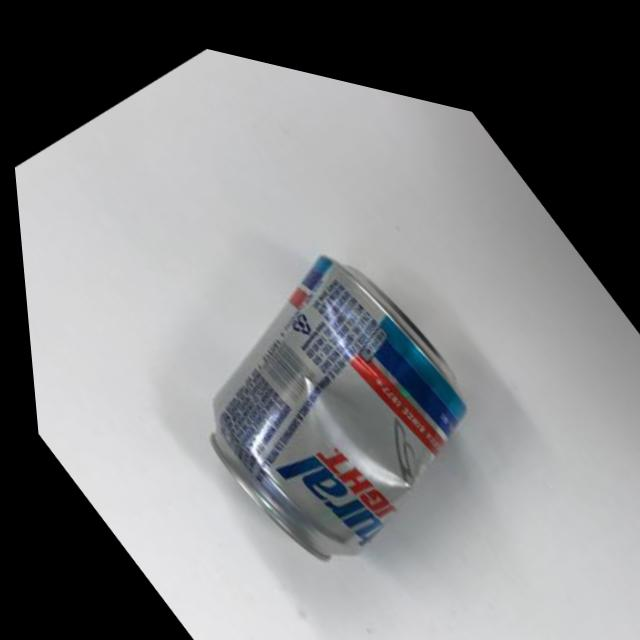metal: (65, 112, 578, 640)
